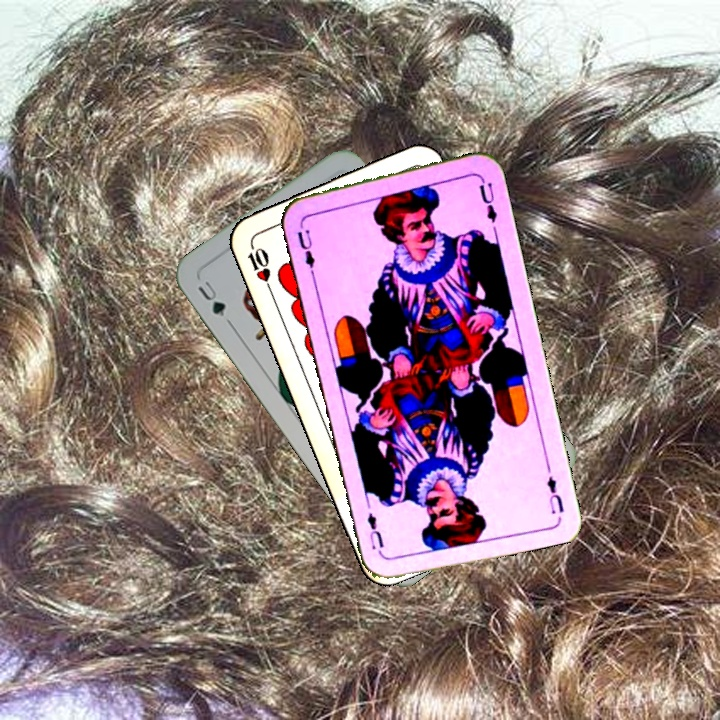EU: (293, 216, 320, 275), (542, 472, 566, 517)
GU: (193, 276, 229, 320)
H10: (243, 237, 275, 294)
